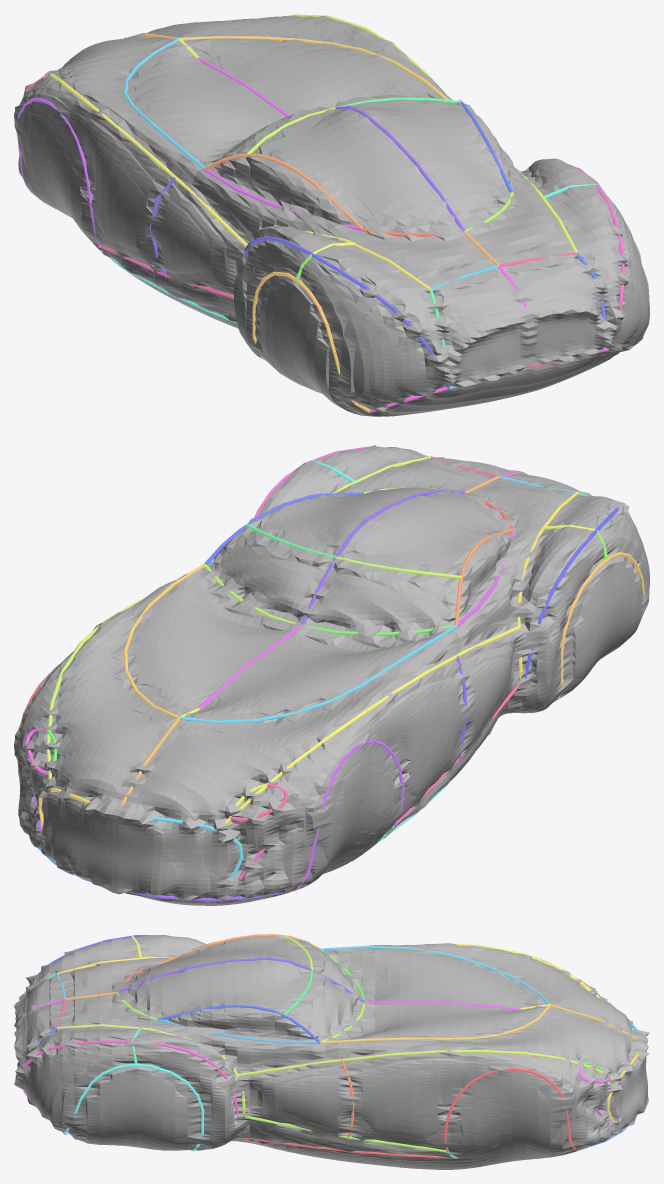
The model's file is ils_roadster.gltf.
3 views of the same model, one above another, from view 1: azimuth 30°, elevation 25°; view 2: azimuth 150°, elevation 25°; view 3: azimuth 270°, elevation 25° (orthographic). The views are drawn at different scales.
Size of the model in its own units: 0.4078 by 0.304 by 0.9121.
